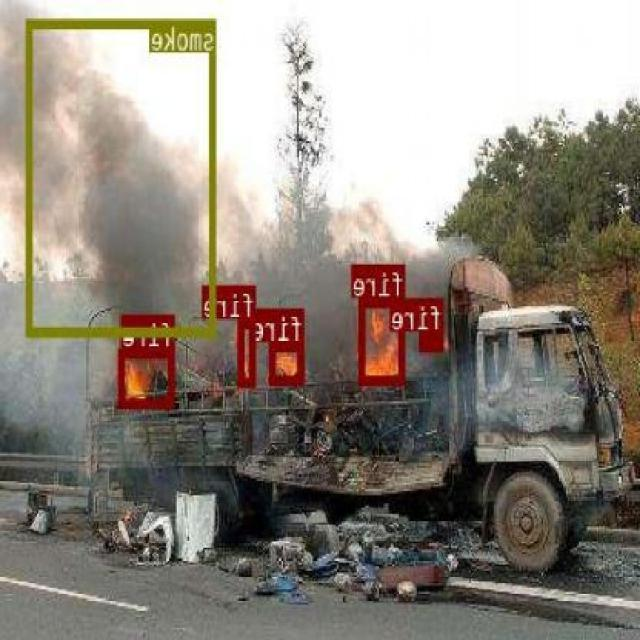Fire: (361, 296, 407, 384), (119, 348, 176, 406), (270, 342, 304, 384), (240, 318, 258, 384)
Smoke: (28, 18, 217, 334)
